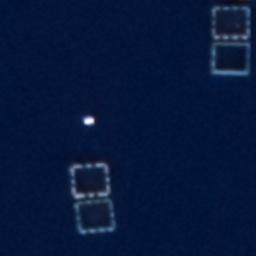square_solid: (64, 160, 116, 203), (70, 196, 120, 239), (206, 38, 254, 79), (208, 2, 254, 42)
